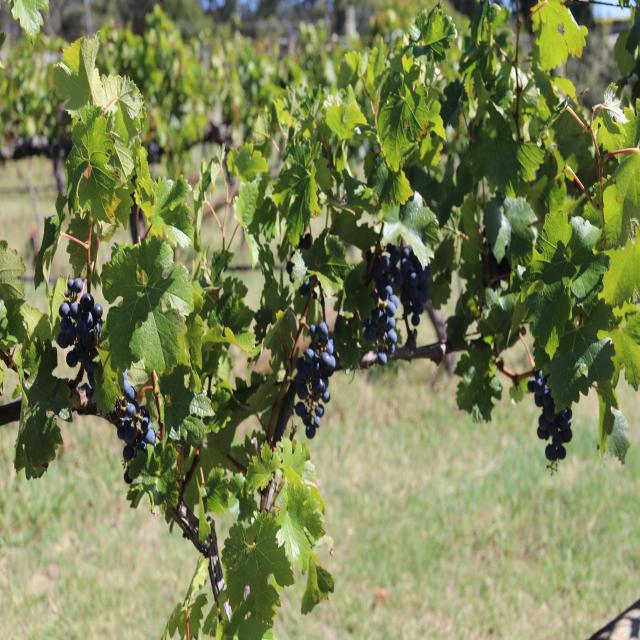grapes: (363, 244, 430, 365), (57, 277, 103, 396), (295, 321, 336, 439), (57, 277, 103, 374), (109, 370, 156, 462), (110, 369, 155, 462), (528, 369, 572, 462)
